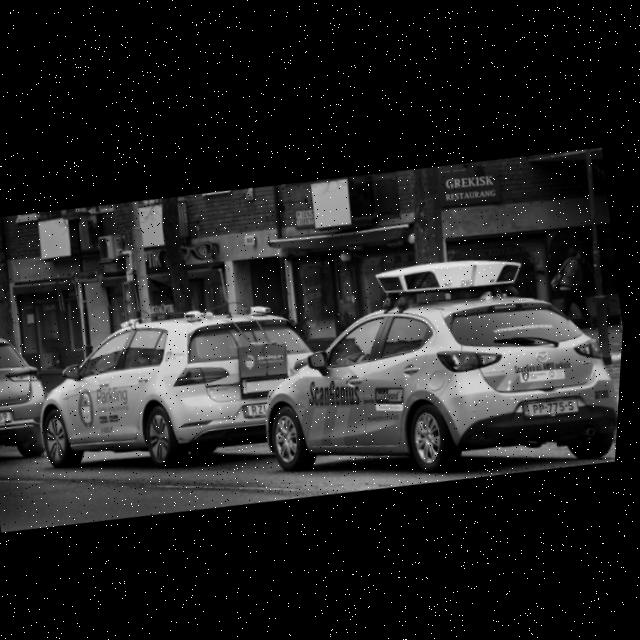license-plates: (523, 397, 580, 417)
